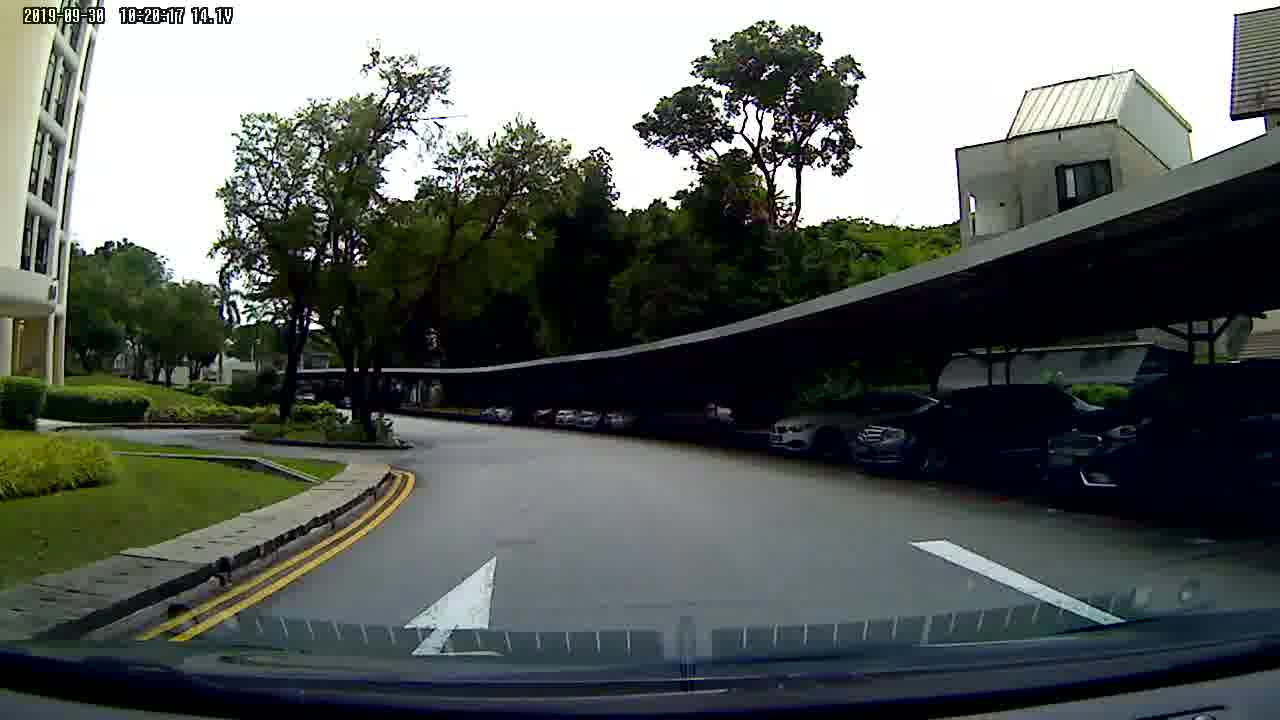car: (1031, 357, 1280, 521), (847, 381, 1047, 475)
